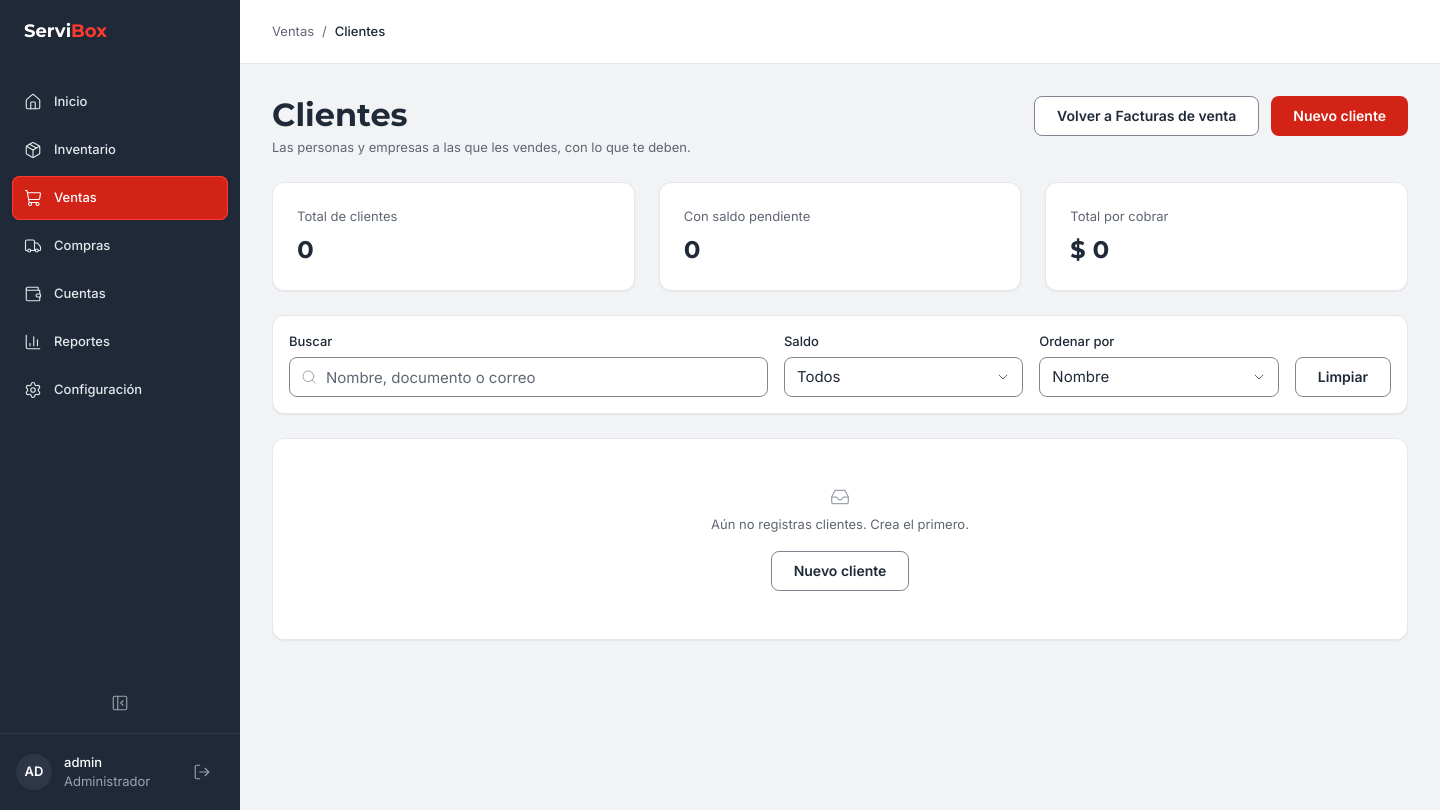
Test case: Clientes › sin clientes (solo el Consumidor final) invita a crear el primero
Expected: the heading "Clientes" is shown, [272,95,408,134]
Expected: the text "Aún no registras clientes. Crea el primero." is shown, [711,515,969,535]
Click the 2nd button "Nuevo cliente" at coordinates (840, 571), box [771,551,909,591]
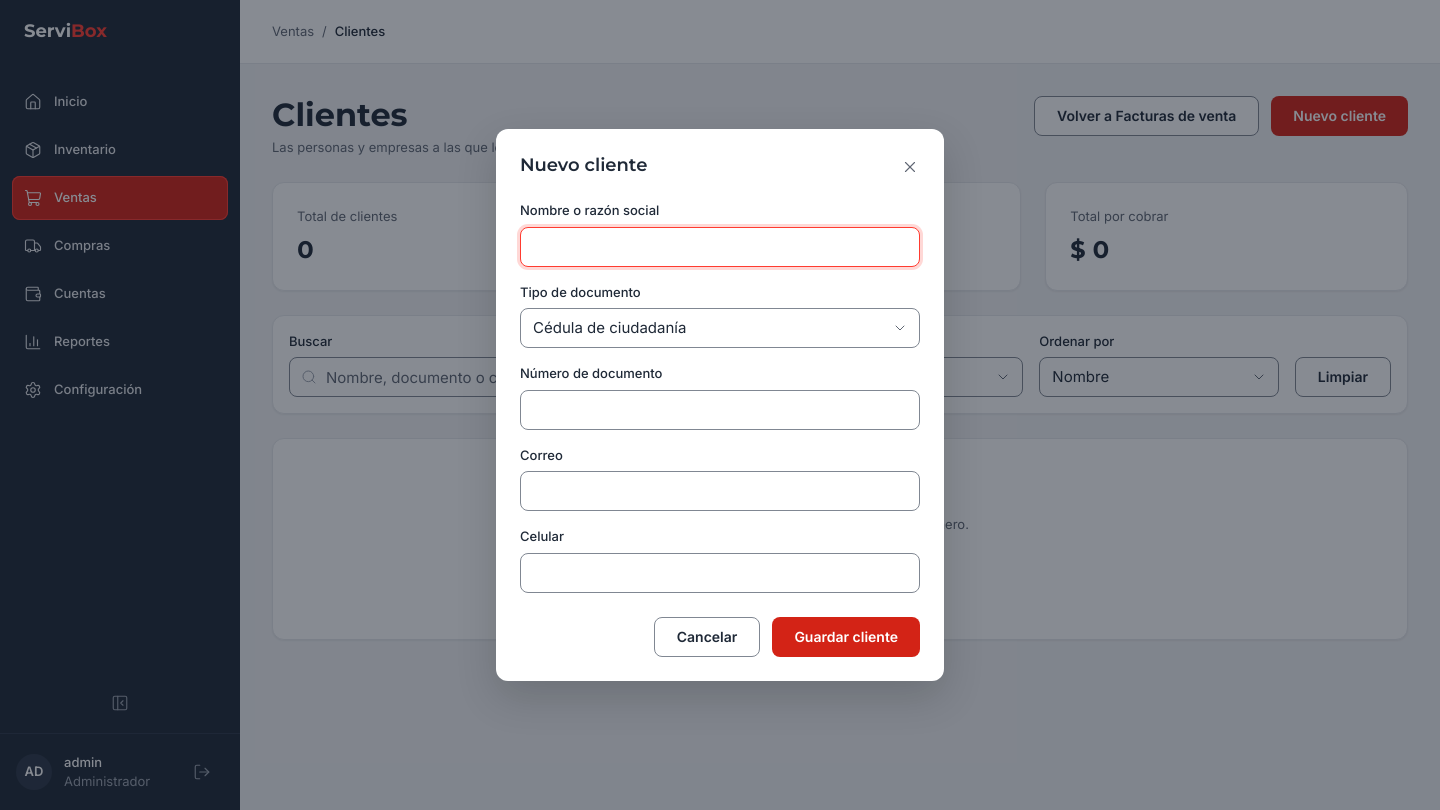
Now the dialog "Nuevo cliente" is shown, box [496,129,944,681]
